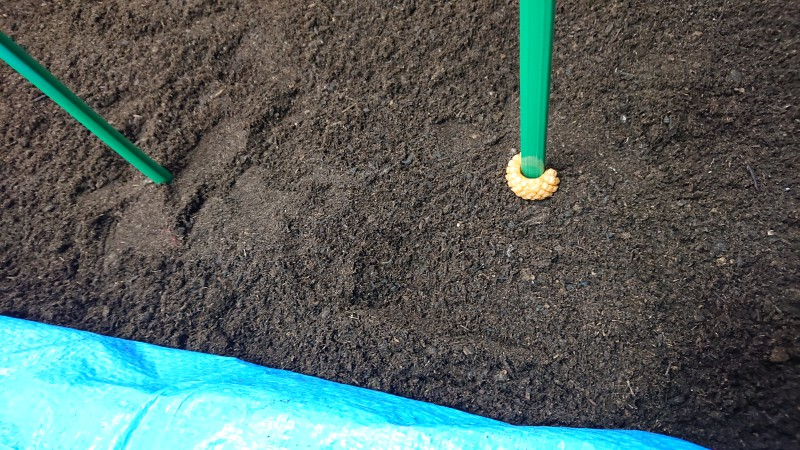eggs: (501, 148, 562, 205)
